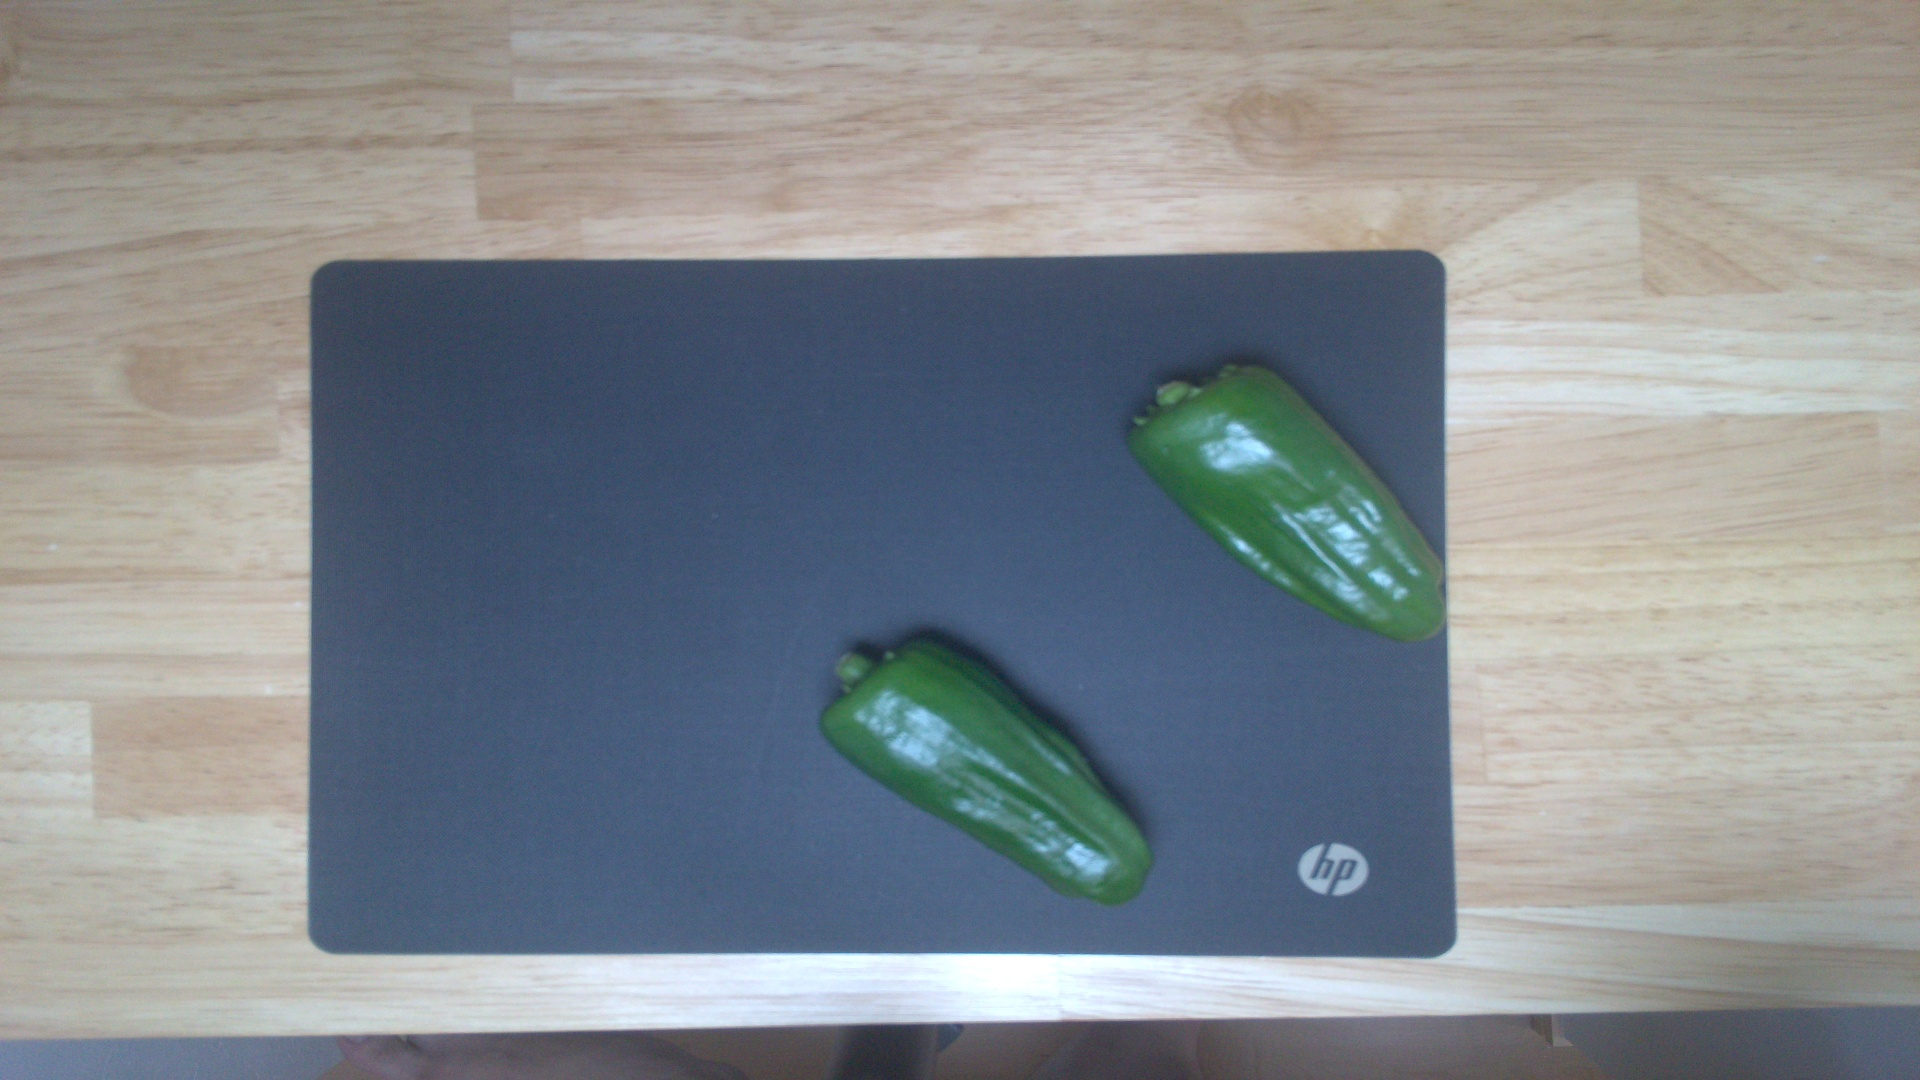Piman: (1126, 356, 1451, 651), (819, 628, 1147, 906)
